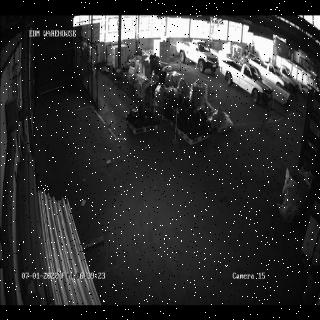car: (217, 60, 273, 104), (176, 40, 219, 72)
